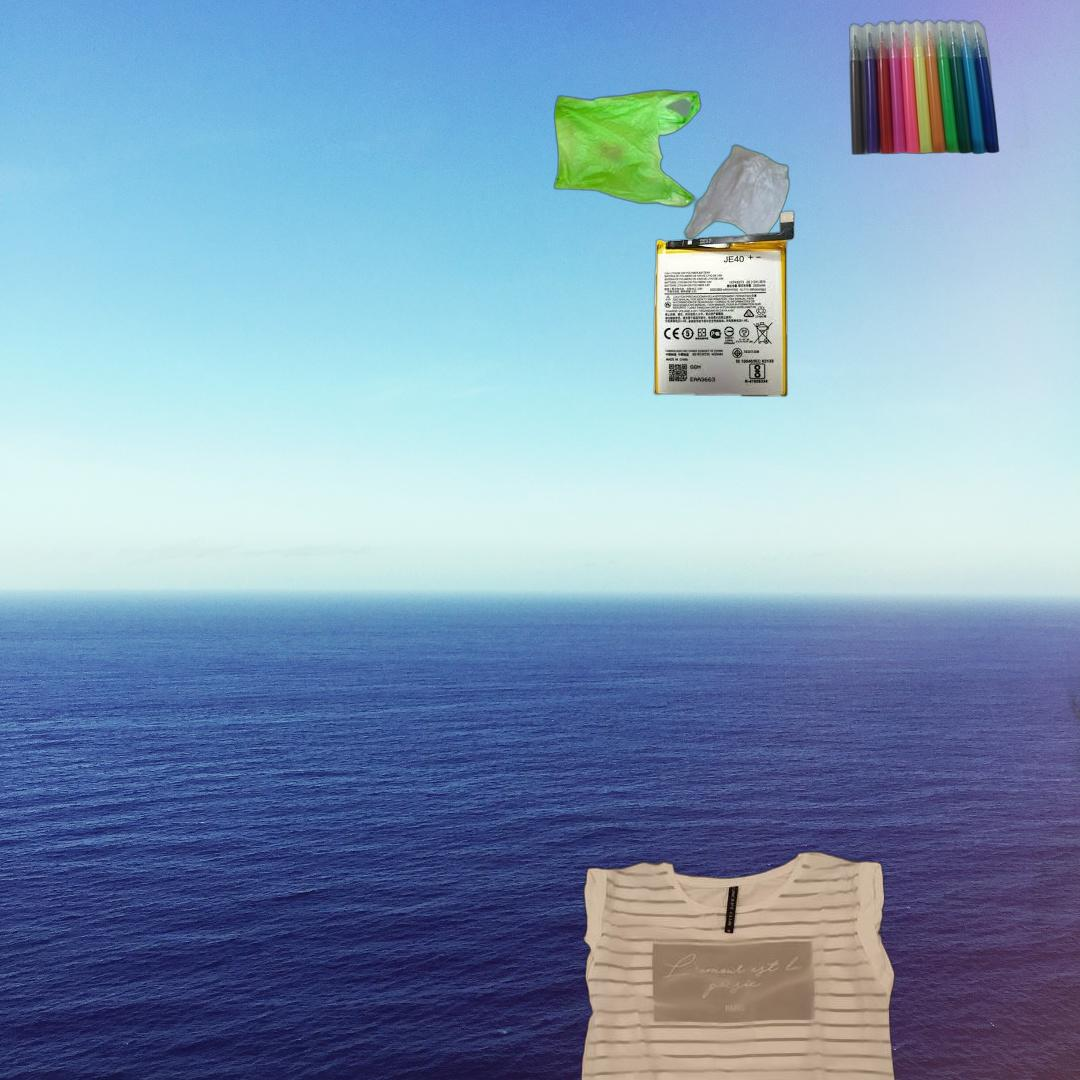battery: (651, 207, 797, 399)
biological: (1067, 461, 1080, 819)
clothes: (559, 847, 919, 1080)
penholder: (847, 17, 1033, 158)
plastic-bag: (553, 87, 791, 275)
plastic-bottles: (1032, 825, 1080, 1080)
